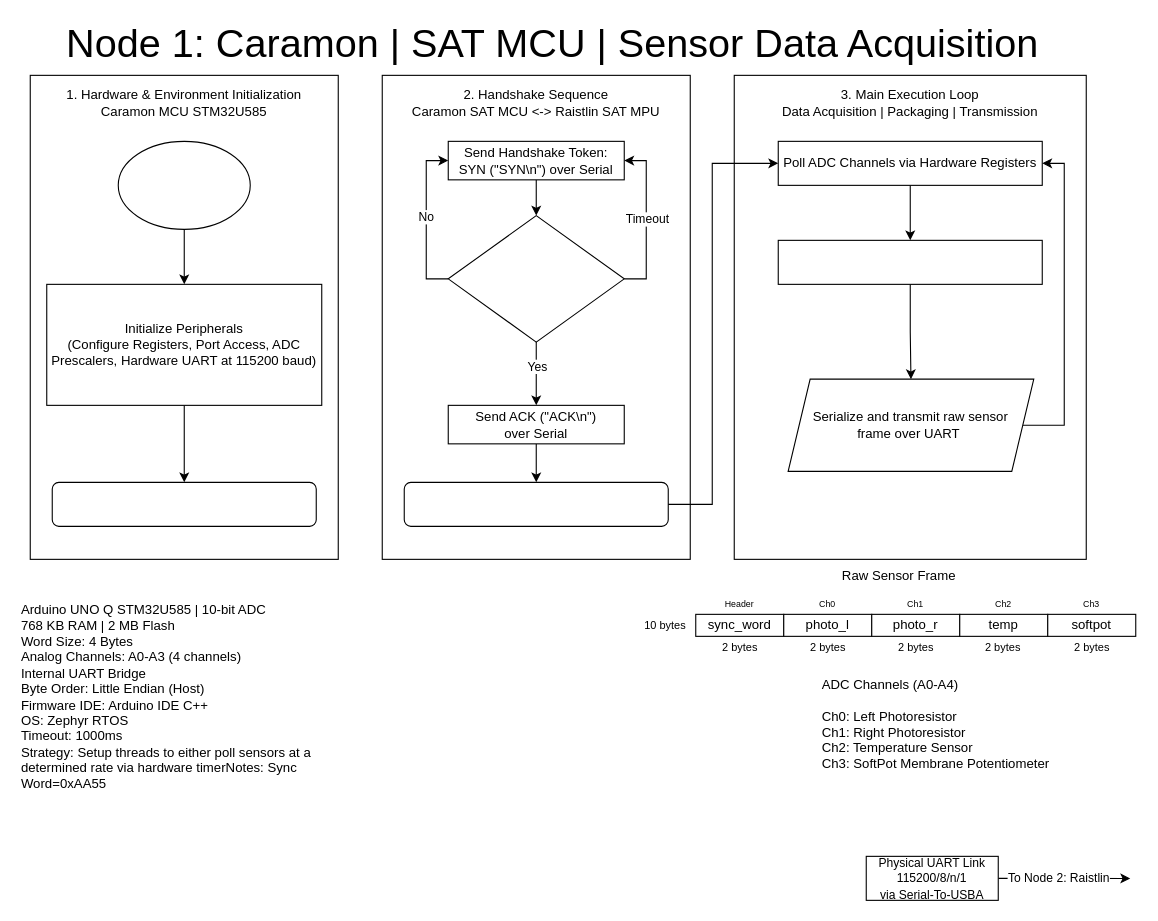
The diagram is 1158 pixels wide and 921 high, and some of its shapes have lost their labels. The shapes that lost their labels are listed below. From the top down, each one's centre as x and y in pixels, then its label:
the point at 183,184: [ START ] Power On / Firmware Boot
the point at 535,278: Received SAK ("SAK\n") from Raistlin?
the point at 909,261: Package values into raw sensor frame
the point at 183,503: Set handshake_state = UNCONNECTED
the point at 535,503: Set handshake_state = CONNECTED
